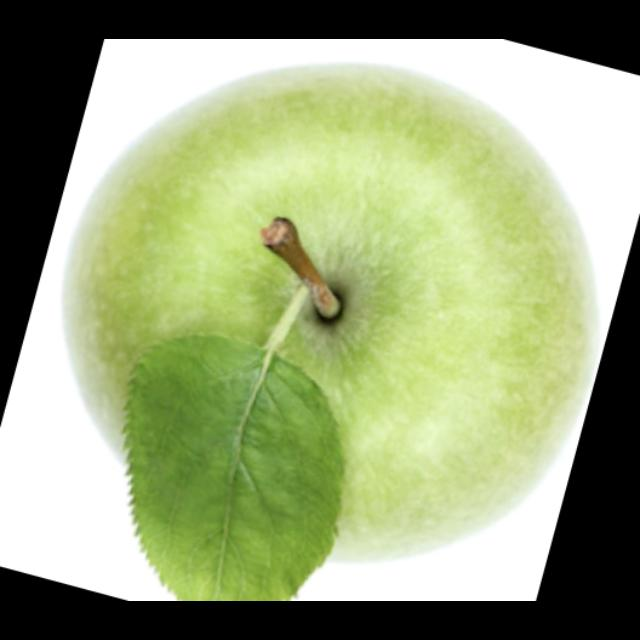Apel Segar: (61, 67, 606, 557)
